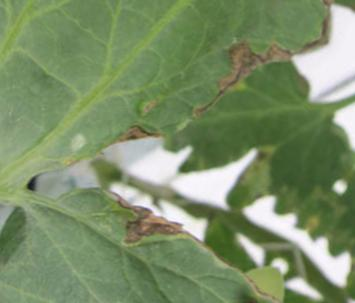Tomato leaf bacterial spot: (0, 0, 333, 267), (0, 114, 273, 303)
